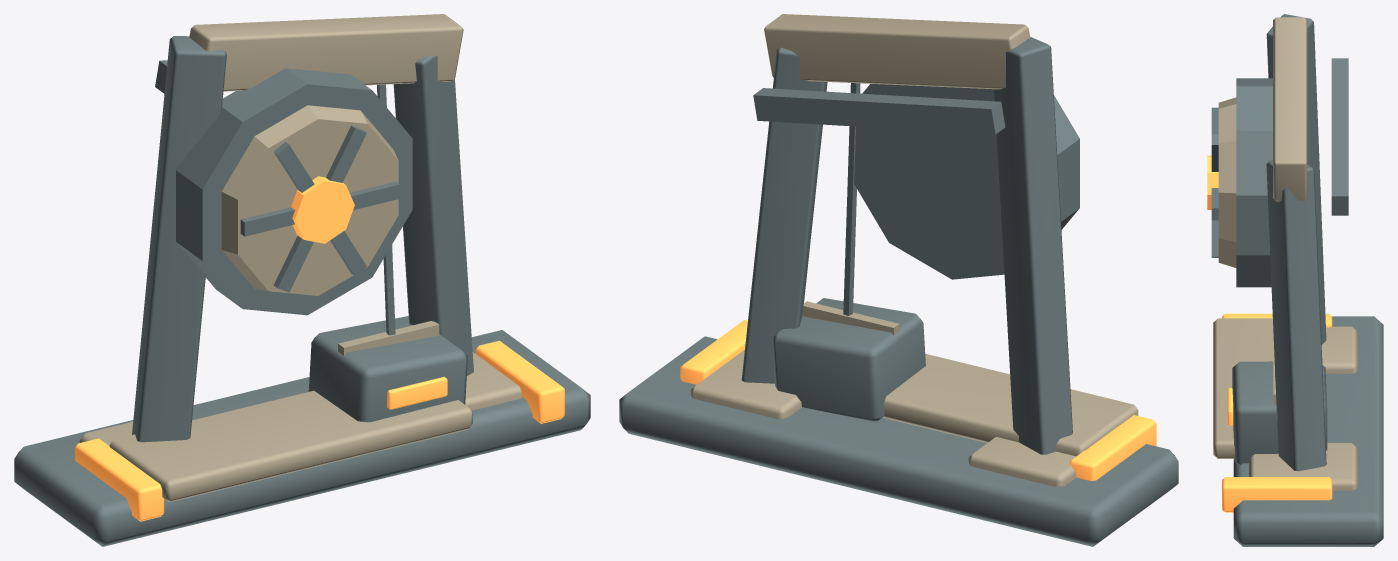
File: landmark-canyon-orehoist.glb
The picture shows the model from 3 angles, left to right: view 1: azimuth 30°, elevation 25°; view 2: azimuth 150°, elevation 25°; view 3: azimuth 270°, elevation 25°; orthographic projection. The views are drawn at different scales.
Visible parts, largest first — view 1: landmark-canyon-orehoist | Quarry graphite, landmark-canyon-orehoist | Dusty hoist steel, landmark-canyon-orehoist | Amber hazard enamel; view 2: landmark-canyon-orehoist | Quarry graphite, landmark-canyon-orehoist | Dusty hoist steel, landmark-canyon-orehoist | Amber hazard enamel; view 3: landmark-canyon-orehoist | Quarry graphite, landmark-canyon-orehoist | Dusty hoist steel, landmark-canyon-orehoist | Amber hazard enamel.
Boxes of the visible parts, x1,y1,x2,y2 form: landmark-canyon-orehoist | Quarry graphite: (14, 36, 590, 546); landmark-canyon-orehoist | Dusty hoist steel: (79, 14, 521, 502); landmark-canyon-orehoist | Amber hazard enamel: (75, 176, 564, 521); landmark-canyon-orehoist | Quarry graphite: (619, 37, 1178, 546); landmark-canyon-orehoist | Dusty hoist steel: (690, 14, 1138, 486); landmark-canyon-orehoist | Amber hazard enamel: (680, 320, 1156, 480); landmark-canyon-orehoist | Quarry graphite: (1211, 14, 1383, 546); landmark-canyon-orehoist | Dusty hoist steel: (1213, 17, 1357, 490); landmark-canyon-orehoist | Amber hazard enamel: (1207, 155, 1332, 512).
Bounding box in the file's own units: 3.65 × 3.25 × 1.34.
